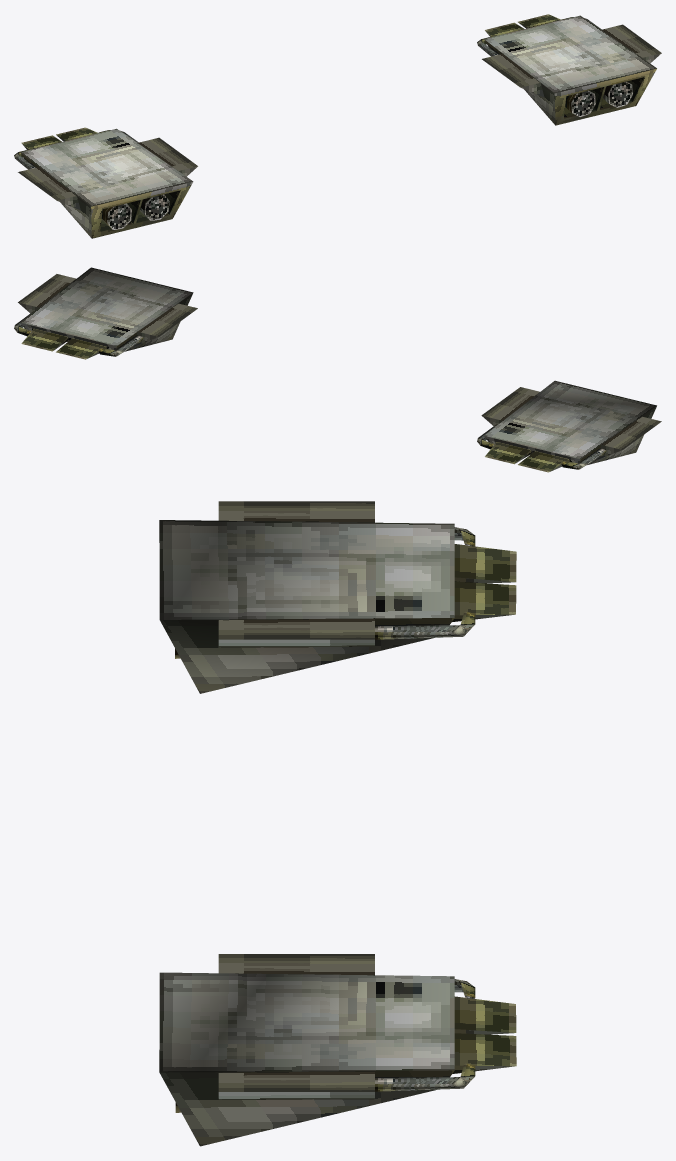
Rendered from z95_missile_pod_s01_l2.fbx.
The picture shows the model from 3 angles, top to bottom: view 1: azimuth 30°, elevation 25°; view 2: azimuth 150°, elevation 25°; view 3: azimuth 270°, elevation 25°; orthographic projection. The views are drawn at different scales.
Parts seen in each view (by area): view 1: mesh_node; view 2: mesh_node; view 3: mesh_node.
Boxes of the visible parts, x1,y1,x2,y2 form: mesh_node: [14, 14, 661, 238]; mesh_node: [14, 267, 661, 472]; mesh_node: [159, 501, 516, 1146].
Bounding box in the file's own units: 14.38 × 0.9602 × 3.67.
